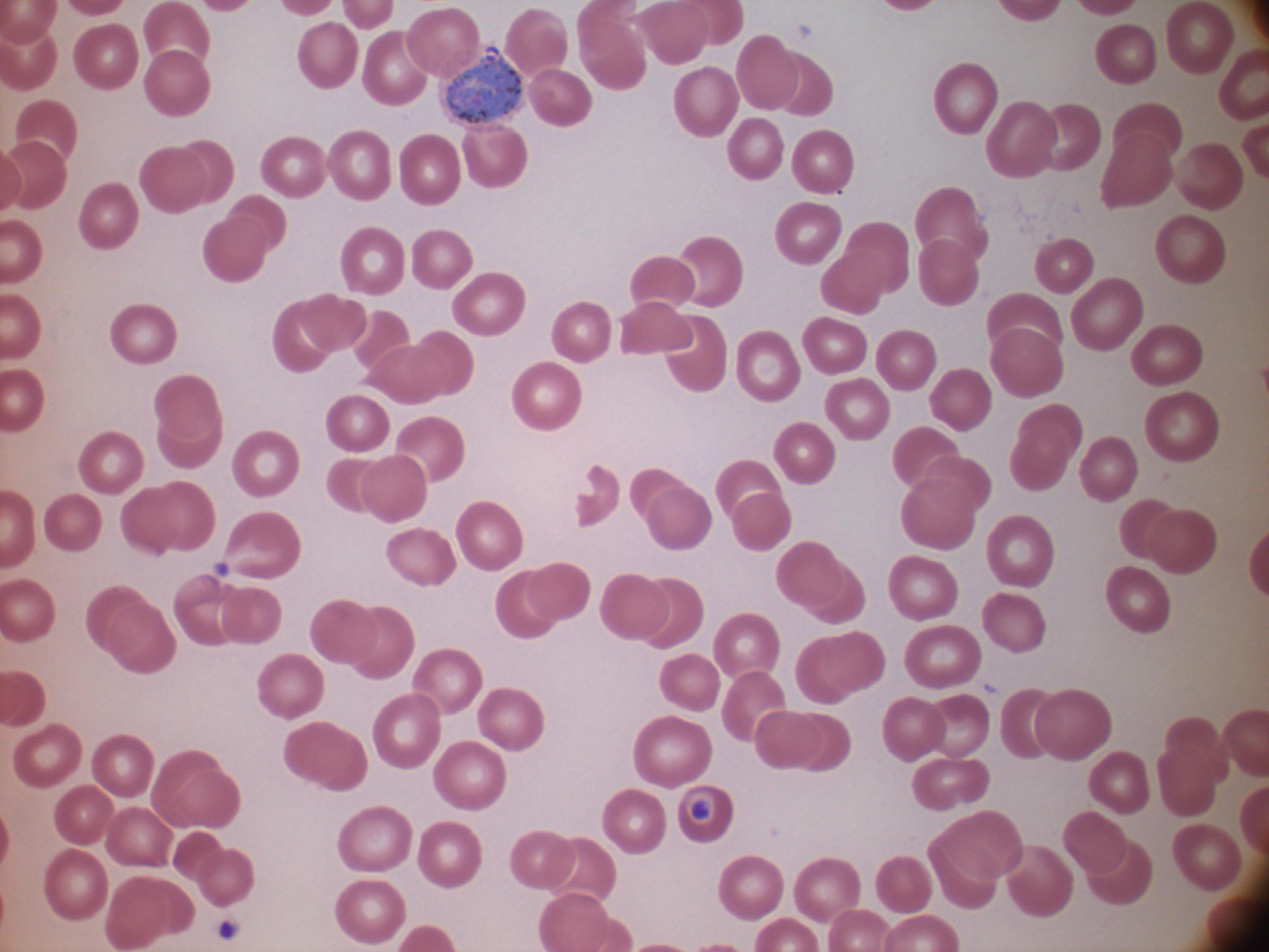Infected: (431, 35, 526, 124)
Uninfected: (359, 328, 474, 407), (925, 809, 1021, 902), (309, 599, 414, 680), (820, 221, 910, 314), (86, 587, 180, 676), (149, 749, 243, 835), (775, 540, 866, 625), (119, 481, 215, 560), (200, 195, 285, 284), (899, 466, 987, 549), (630, 468, 716, 552), (495, 563, 589, 639), (105, 875, 194, 951), (794, 631, 882, 706), (153, 374, 226, 463), (1098, 125, 1176, 208), (1008, 406, 1084, 491), (576, 3, 649, 89), (283, 721, 370, 792), (598, 572, 682, 645), (752, 708, 846, 772), (983, 100, 1060, 178), (987, 323, 1064, 399), (176, 833, 254, 908), (632, 715, 711, 789), (223, 510, 303, 582), (1031, 689, 1111, 760), (1156, 734, 1227, 813), (1143, 390, 1219, 463), (1063, 811, 1138, 883), (233, 424, 304, 500), (355, 453, 431, 524), (735, 34, 805, 111), (372, 694, 444, 768), (139, 142, 213, 214), (432, 740, 507, 811), (636, 1, 717, 66), (1070, 278, 1143, 350), (1002, 846, 1076, 917), (405, 8, 480, 78), (336, 806, 412, 875), (903, 623, 981, 690), (662, 313, 729, 391), (142, 46, 213, 116), (985, 515, 1054, 587), (361, 31, 428, 105), (1155, 214, 1226, 283), (1130, 323, 1204, 389), (1173, 142, 1243, 211), (887, 555, 958, 623), (511, 362, 582, 430), (915, 236, 983, 307), (720, 669, 788, 740), (451, 272, 525, 337), (396, 415, 465, 484), (539, 891, 617, 952), (912, 185, 985, 250), (327, 130, 394, 200), (673, 66, 740, 136), (398, 133, 464, 204), (413, 649, 484, 715), (505, 7, 571, 78), (334, 879, 406, 944), (7, 138, 70, 212), (455, 501, 523, 569), (13, 724, 82, 791), (1171, 824, 1240, 891), (340, 225, 406, 295), (985, 291, 1062, 351), (933, 63, 999, 133), (44, 849, 109, 920), (617, 299, 697, 356), (257, 653, 325, 720), (73, 24, 141, 91), (792, 857, 859, 925), (1166, 1, 1231, 71), (679, 235, 743, 306), (911, 755, 990, 812), (418, 823, 485, 890), (260, 136, 329, 201), (461, 124, 530, 189), (104, 806, 174, 870), (173, 574, 235, 646), (738, 329, 799, 402), (774, 201, 842, 266), (882, 696, 947, 764), (1109, 101, 1181, 162), (879, 322, 939, 395), (1105, 566, 1171, 632), (601, 788, 666, 855), (717, 856, 784, 921), (477, 688, 545, 752), (91, 733, 155, 801), (509, 830, 578, 893), (893, 424, 963, 486), (790, 128, 855, 194), (726, 486, 791, 551), (928, 367, 994, 431), (711, 614, 777, 678), (217, 583, 284, 646), (386, 527, 457, 586), (78, 431, 143, 495), (772, 421, 836, 486), (297, 22, 359, 89), (1087, 751, 1152, 814), (110, 303, 176, 365), (800, 315, 867, 376), (52, 784, 116, 847), (79, 182, 140, 248), (1119, 498, 1179, 565), (143, 3, 212, 61), (15, 98, 78, 161), (411, 228, 475, 290), (981, 591, 1046, 652), (526, 68, 593, 127), (1077, 435, 1137, 500), (557, 835, 617, 900), (1153, 510, 1213, 575), (777, 51, 834, 119), (628, 254, 698, 309), (999, 689, 1054, 759), (351, 309, 412, 372), (823, 378, 887, 438), (658, 652, 722, 712), (325, 394, 390, 453), (1095, 23, 1157, 84), (934, 693, 992, 758), (1046, 102, 1102, 169), (271, 305, 326, 373), (303, 294, 363, 356), (726, 116, 784, 180), (551, 302, 612, 362), (1, 31, 60, 93), (0, 577, 55, 643), (1034, 236, 1096, 294), (1218, 47, 1269, 117), (43, 493, 102, 553), (874, 856, 933, 916), (182, 137, 236, 201), (677, 785, 734, 843), (1221, 709, 1269, 777), (678, 0, 743, 49), (717, 459, 769, 520), (826, 908, 890, 952), (327, 457, 376, 514), (885, 913, 957, 951), (0, 0, 56, 46), (577, 465, 619, 524), (754, 916, 817, 952)
